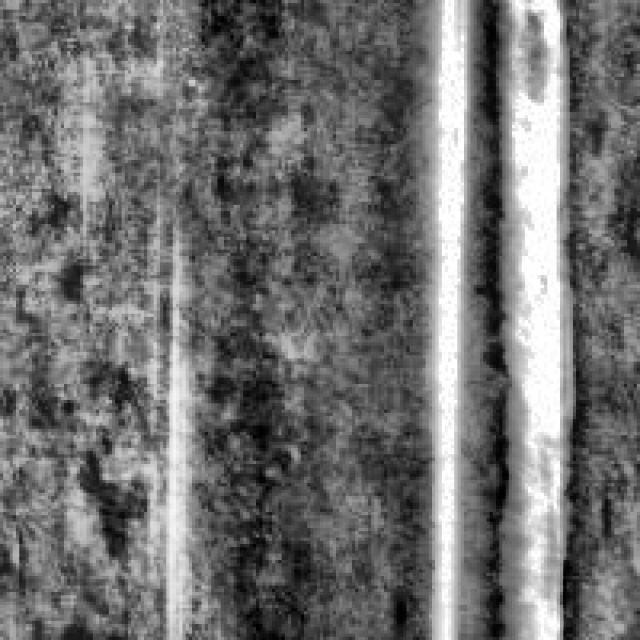Inclusion: (489, 0, 566, 634), (420, 0, 470, 634), (154, 230, 196, 630)
